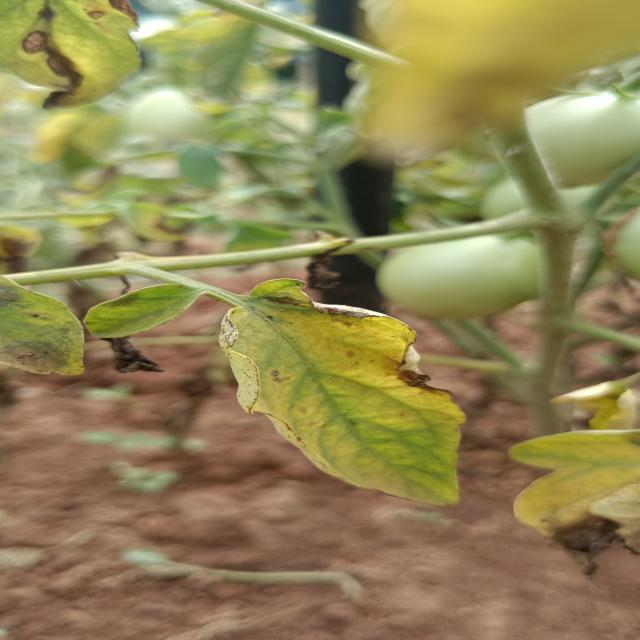tomato_early blight: (217, 278, 463, 506), (509, 381, 640, 554), (0, 0, 138, 107), (0, 276, 82, 376)
